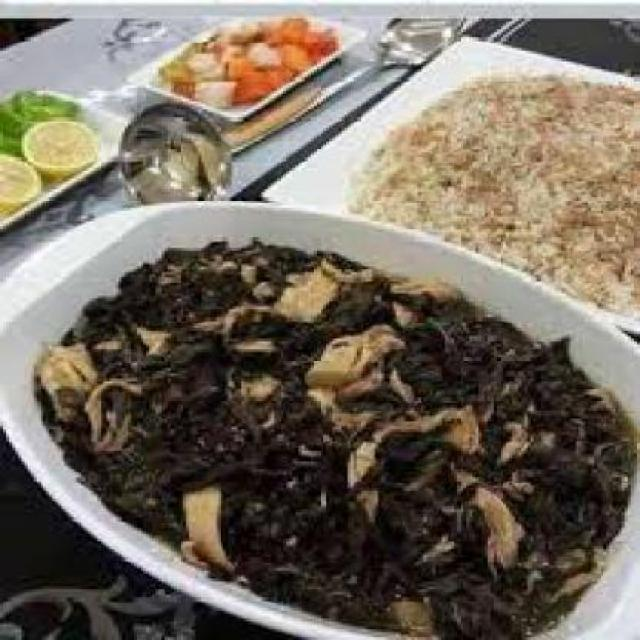fried rice: (348, 56, 637, 302)
molokhia: (25, 239, 637, 638)
